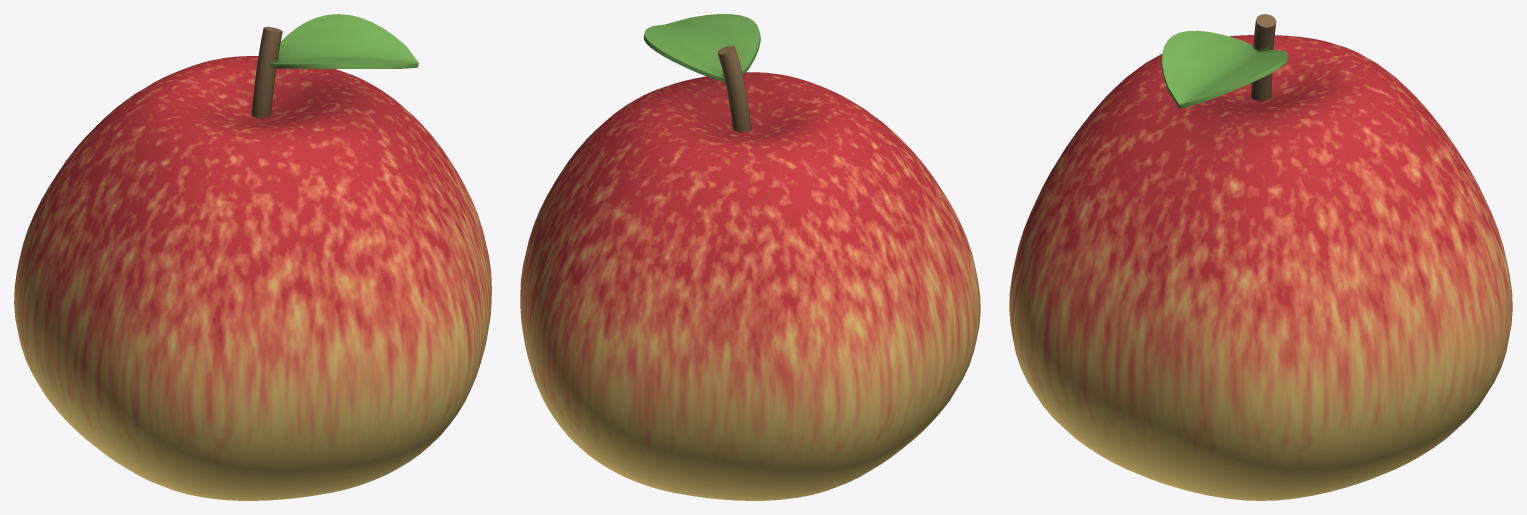
Rendered from SK_Apple.fbx.
3 renders of one model, left to right at view 1: azimuth 30°, elevation 25°; view 2: azimuth 150°, elevation 25°; view 3: azimuth 270°, elevation 25°, orthographic. The views are drawn at different scales.
Visible parts, largest first — view 1: SK_Apple; view 2: SK_Apple; view 3: SK_Apple.
Part boxes in pixels (x1,y1,x2,y2): SK_Apple: (14, 14, 491, 500); SK_Apple: (520, 14, 980, 500); SK_Apple: (1009, 14, 1512, 500).
Size of the model in its own units: 486 by 476 by 490.
